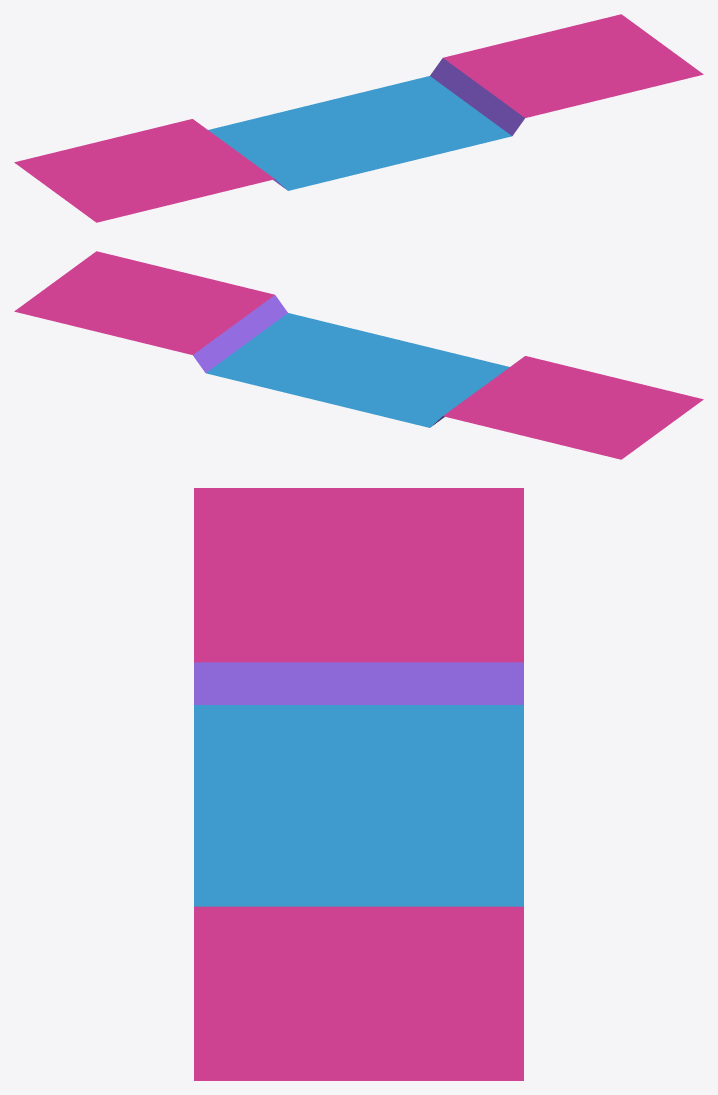
File: Road.fbx
The picture shows the model from 3 angles, top to bottom: view 1: azimuth 30°, elevation 25°; view 2: azimuth 150°, elevation 25°; view 3: azimuth 270°, elevation 25°; orthographic projection. The views are drawn at different scales.
Parts seen in each view (by area): view 1: road.001; view 2: road.001; view 3: road.001.
Boxes of the visible parts, x1,y1,x2,y2 form: road.001: (14, 14, 703, 222); road.001: (14, 251, 703, 459); road.001: (194, 488, 523, 1080).
Size of the model in its own units: 17 by 0.4 by 4.
